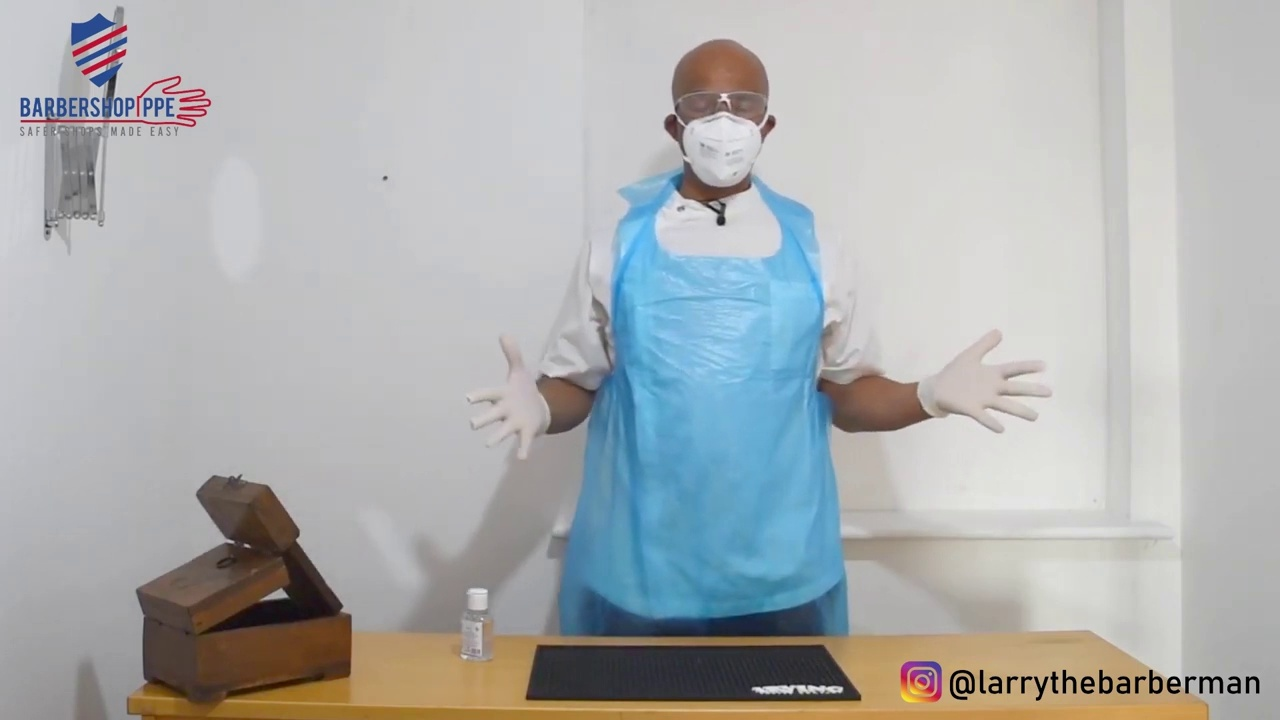Apron: (575, 173, 826, 655)
Glove: (902, 334, 1041, 418), (465, 324, 562, 442)
Mask: (633, 111, 794, 188)
No_Hairnet: (643, 37, 780, 90)
